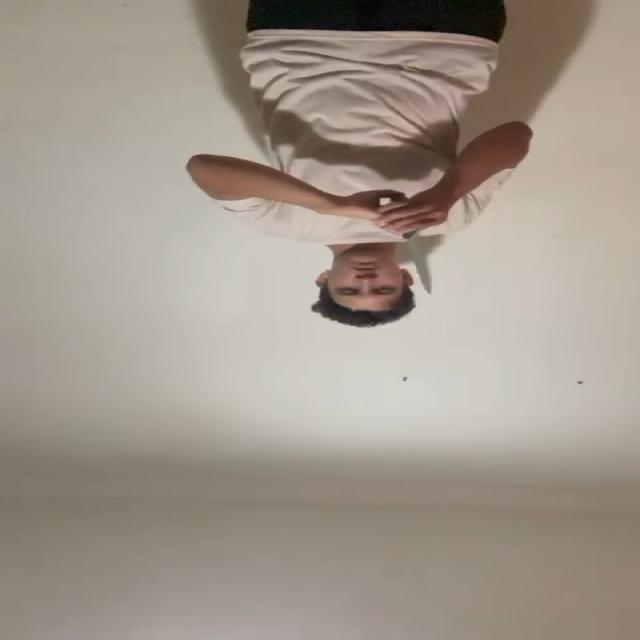knife: (406, 237, 436, 295)
